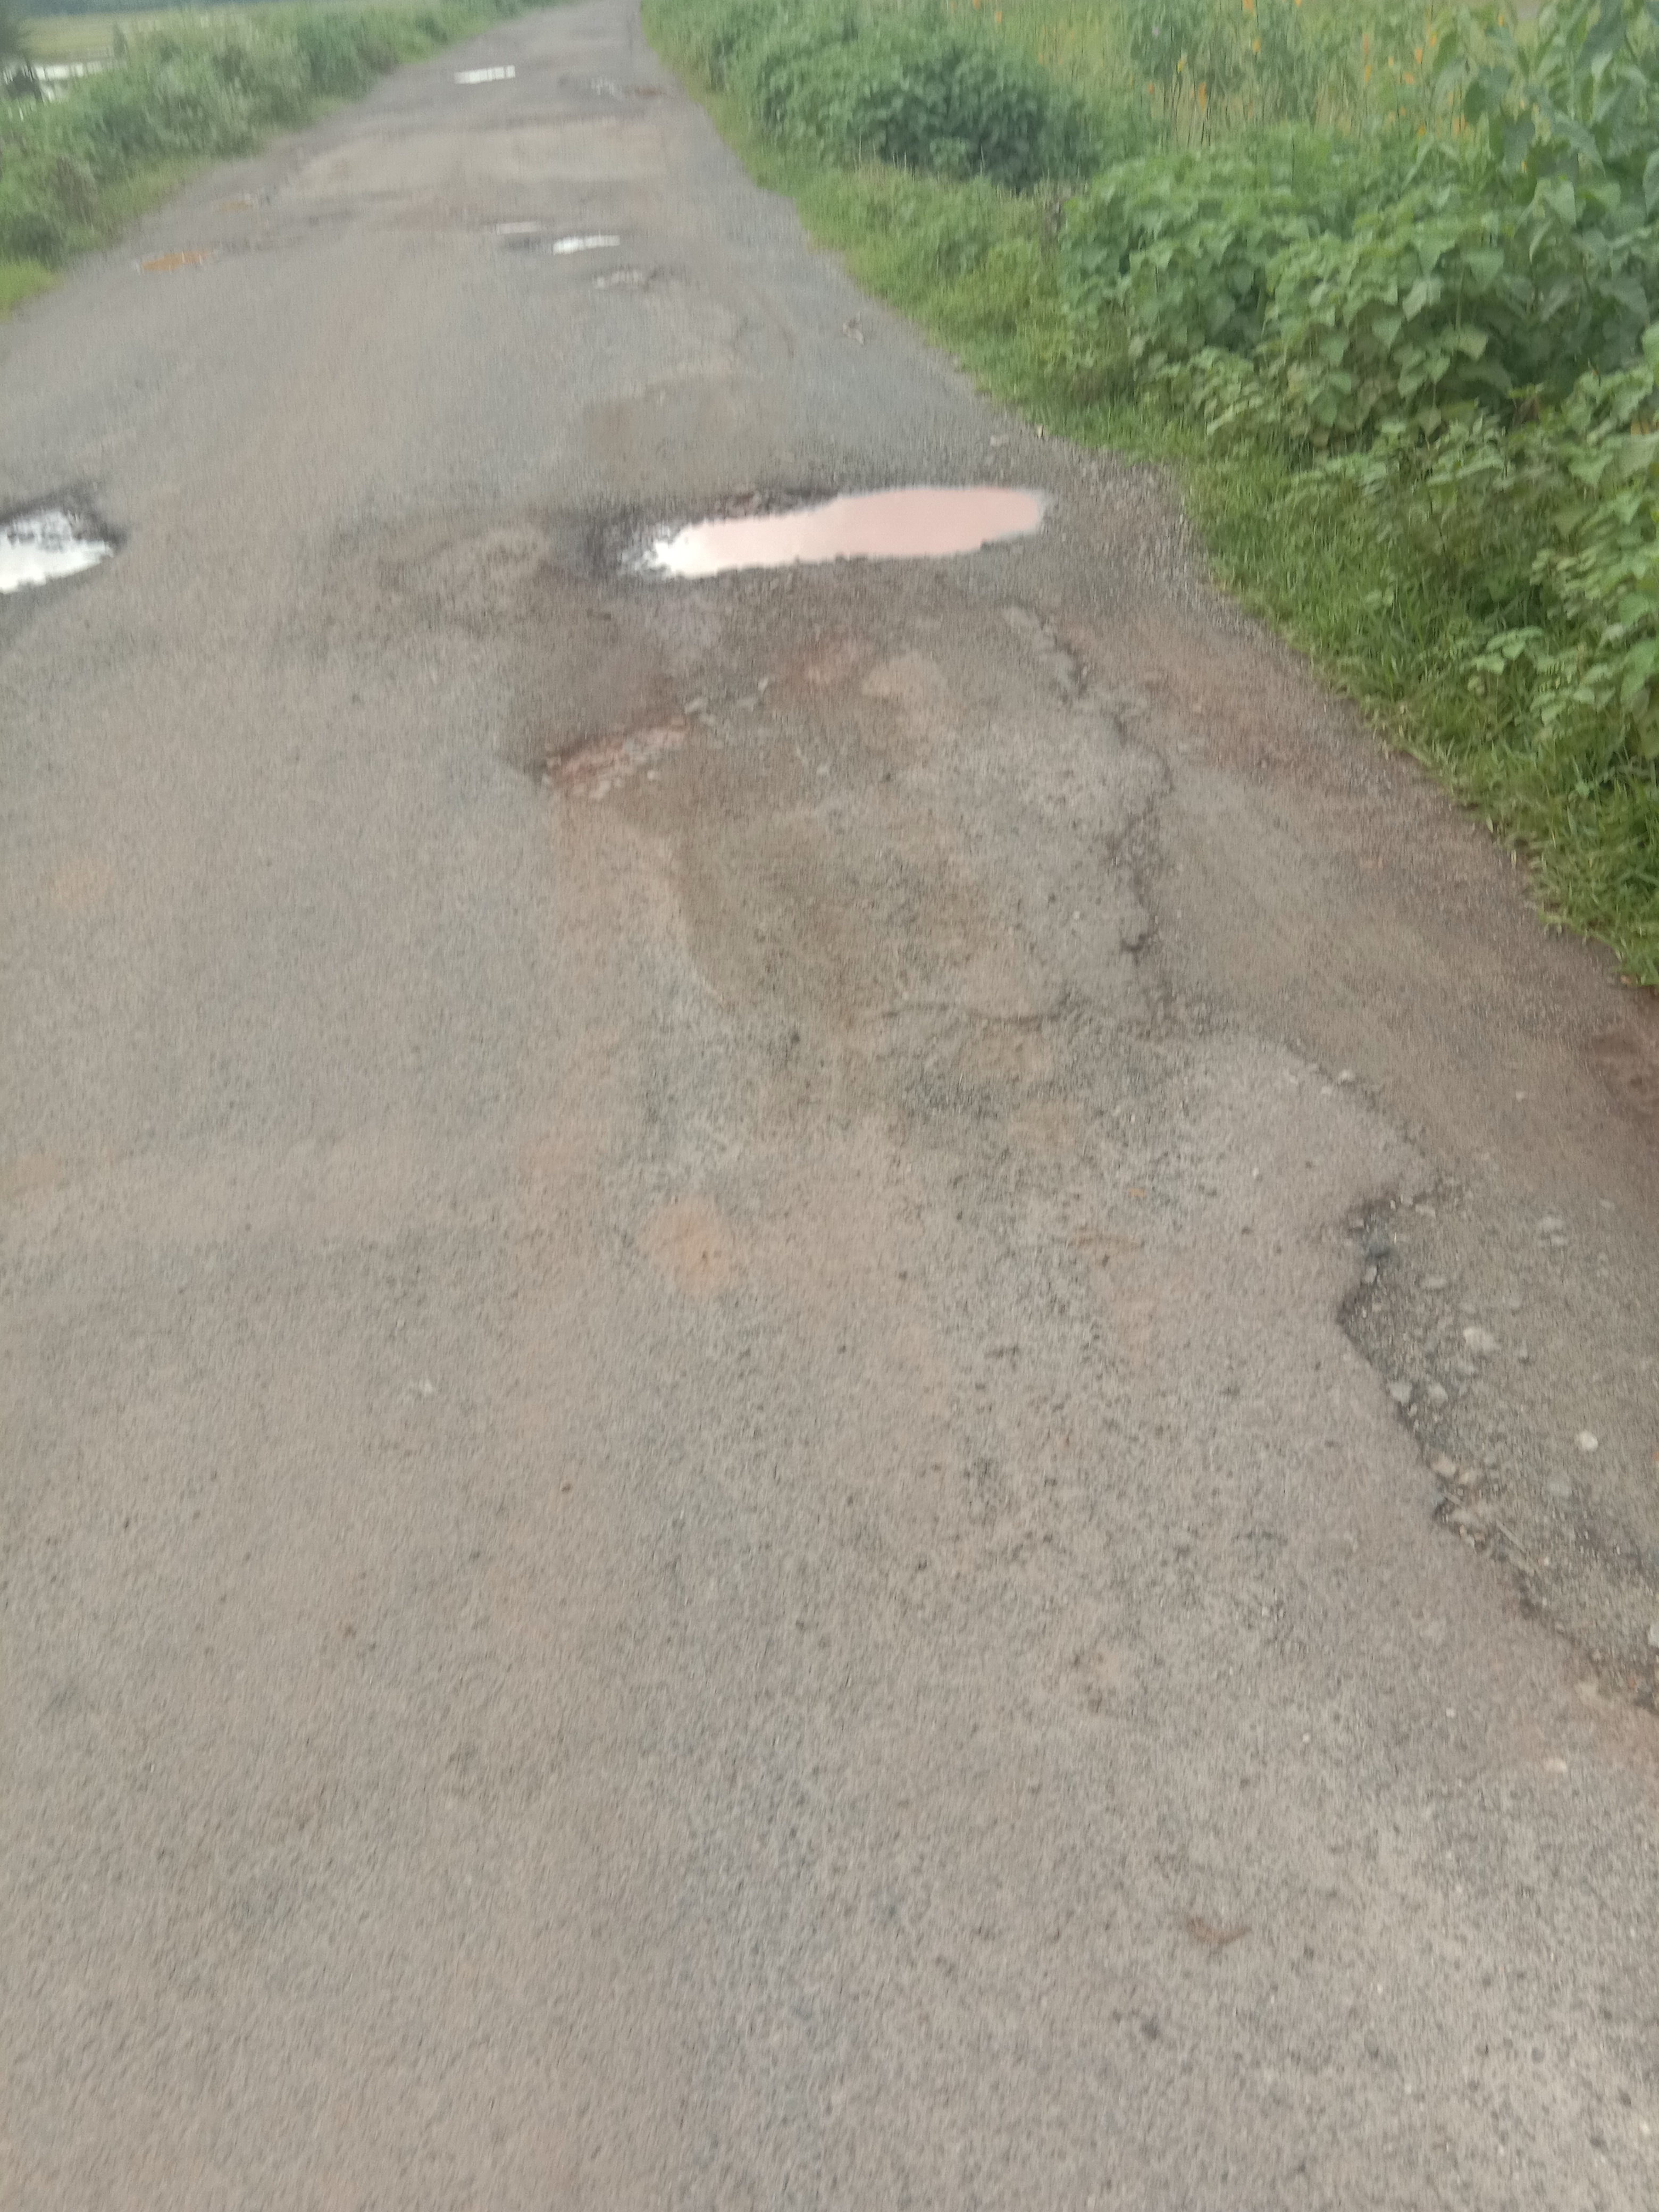potholes: (594, 467, 1058, 577), (0, 477, 136, 622), (495, 211, 681, 293), (455, 52, 537, 105)
